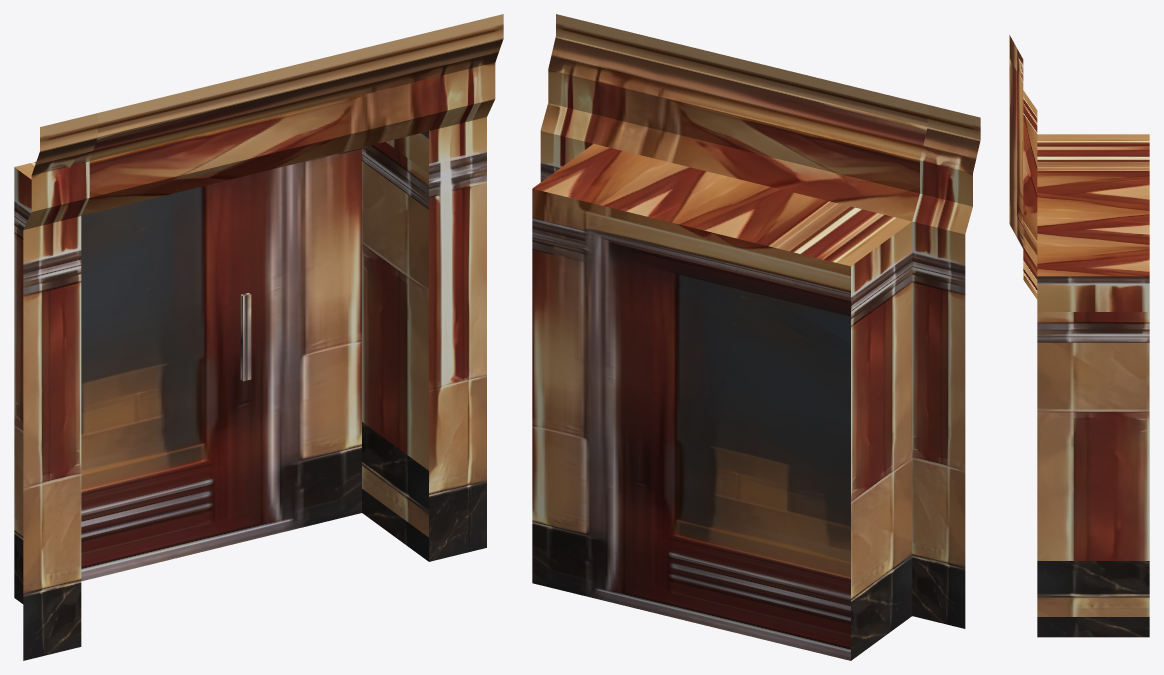
Rendered from DECO_G_Entry4.fbx.
3 renders of one model, left to right at view 1: azimuth 30°, elevation 25°; view 2: azimuth 150°, elevation 25°; view 3: azimuth 270°, elevation 25°, orthographic. The views are drawn at different scales.
Visible parts, largest first — view 1: DECO_G_Entry4; view 2: DECO_G_Entry4; view 3: DECO_G_Entry4.
Part boxes in pixels (box(x1,y1,x2,y2)): DECO_G_Entry4: box(14, 14, 503, 660); DECO_G_Entry4: box(532, 14, 980, 660); DECO_G_Entry4: box(1009, 35, 1149, 637).
Size of the model in its own units: 4 by 1.25 by 4.5.
1 material, 1 textured.
